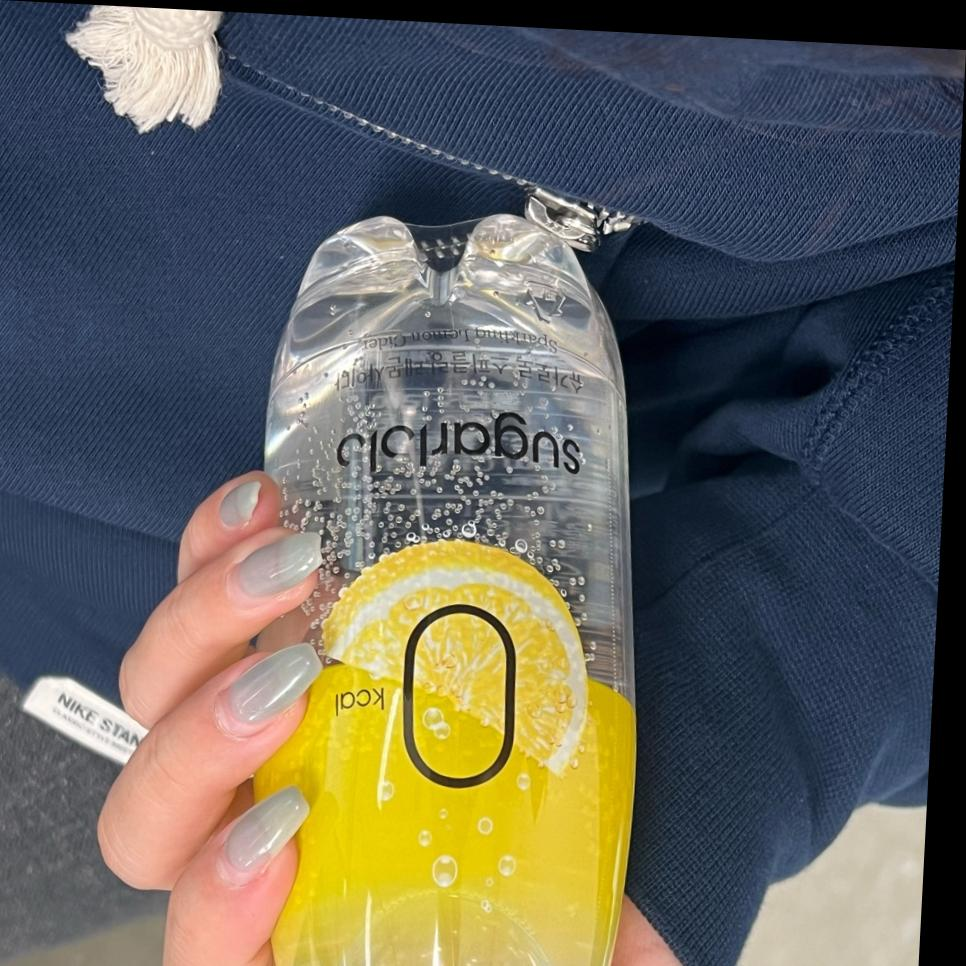nail: (225, 638, 325, 732), (221, 782, 312, 881), (236, 528, 325, 604), (218, 478, 264, 532)
